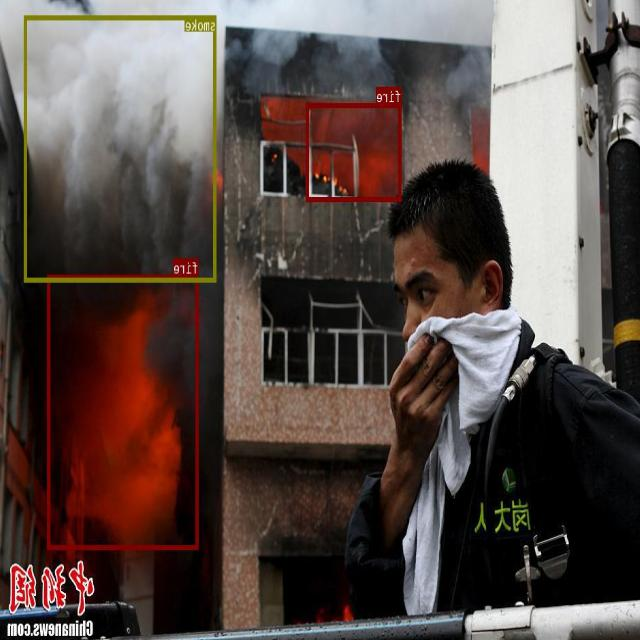fire: (48, 274, 199, 548), (307, 103, 402, 200)
smoke: (25, 15, 217, 282)
